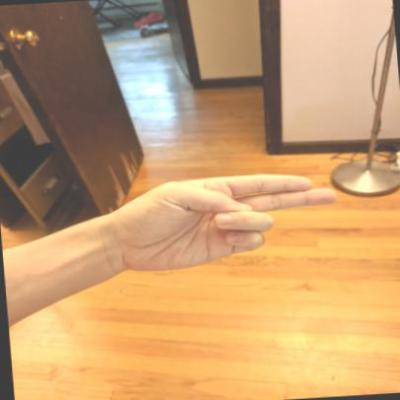hand: (104, 165, 348, 277)
